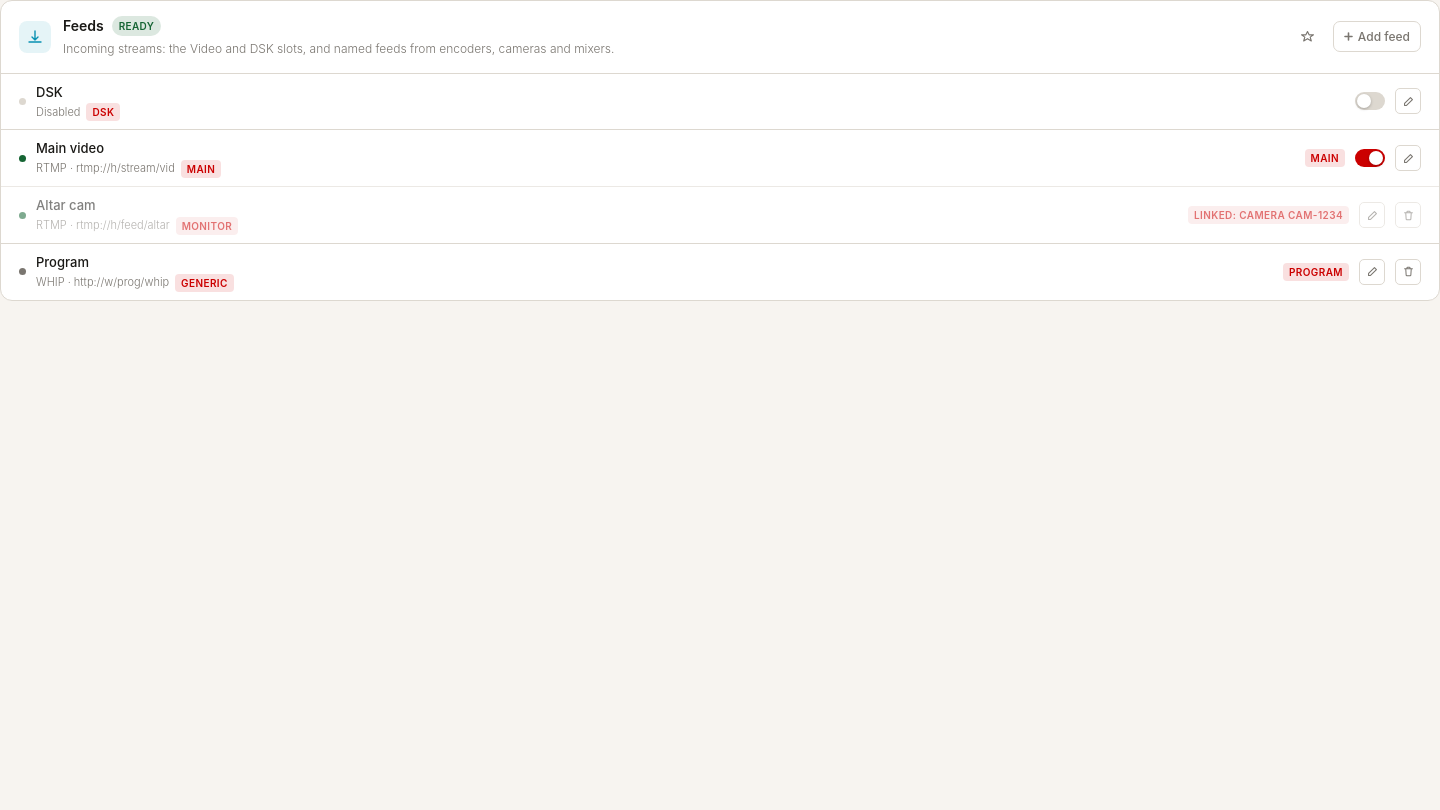
it: FeedsSection › shows the server reason for a 400
This screenshot has width=1440, height=810.
Expected: the text "Altar cam" is shown, left=36, top=197, right=96, bottom=213
Click the button "Add feed".
click(1377, 37)  # box left=1333, top=21, right=1421, bottom=52
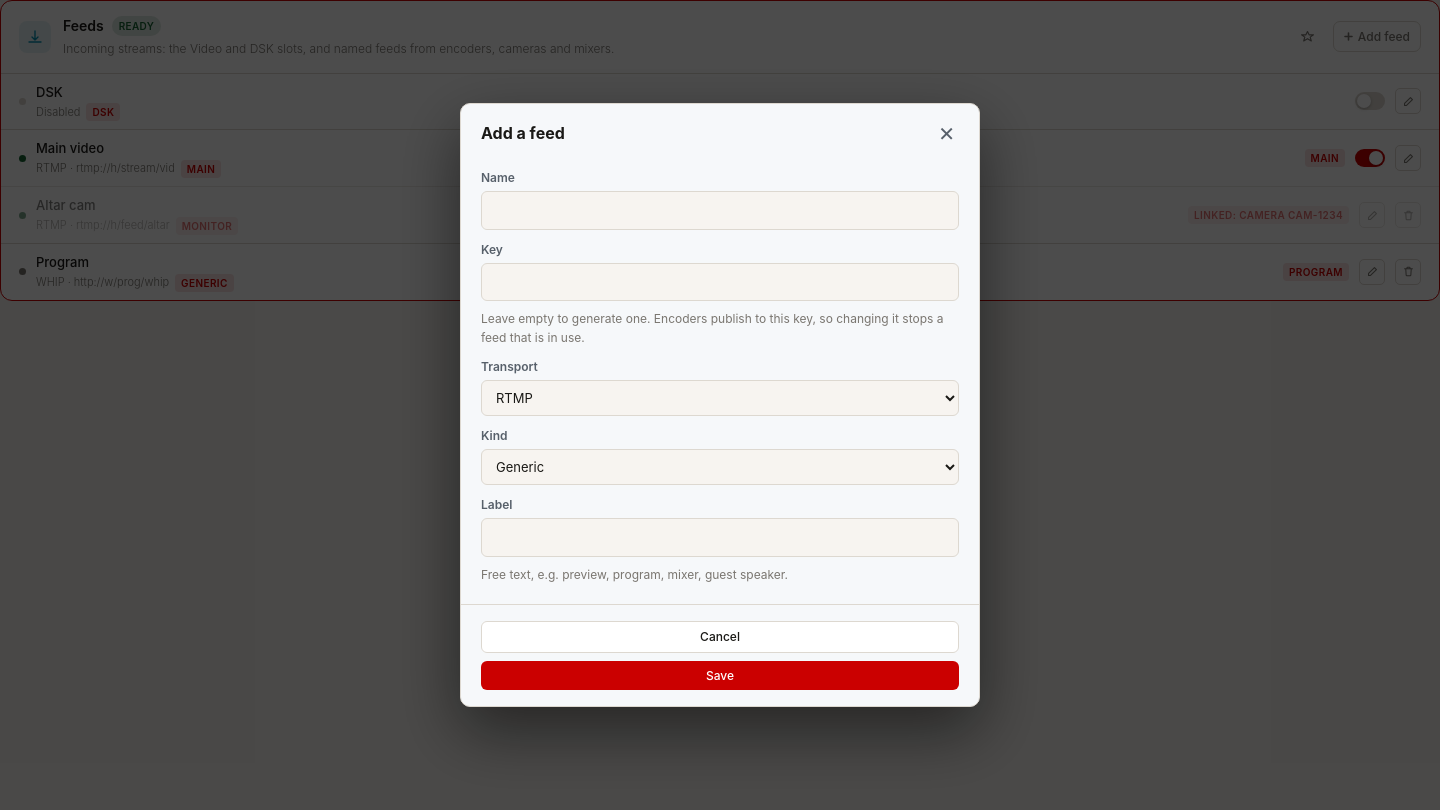
Type "Bad" into the field labelled "Name".
click(720, 211); type("Bad")  # box left=481, top=191, right=959, bottom=230
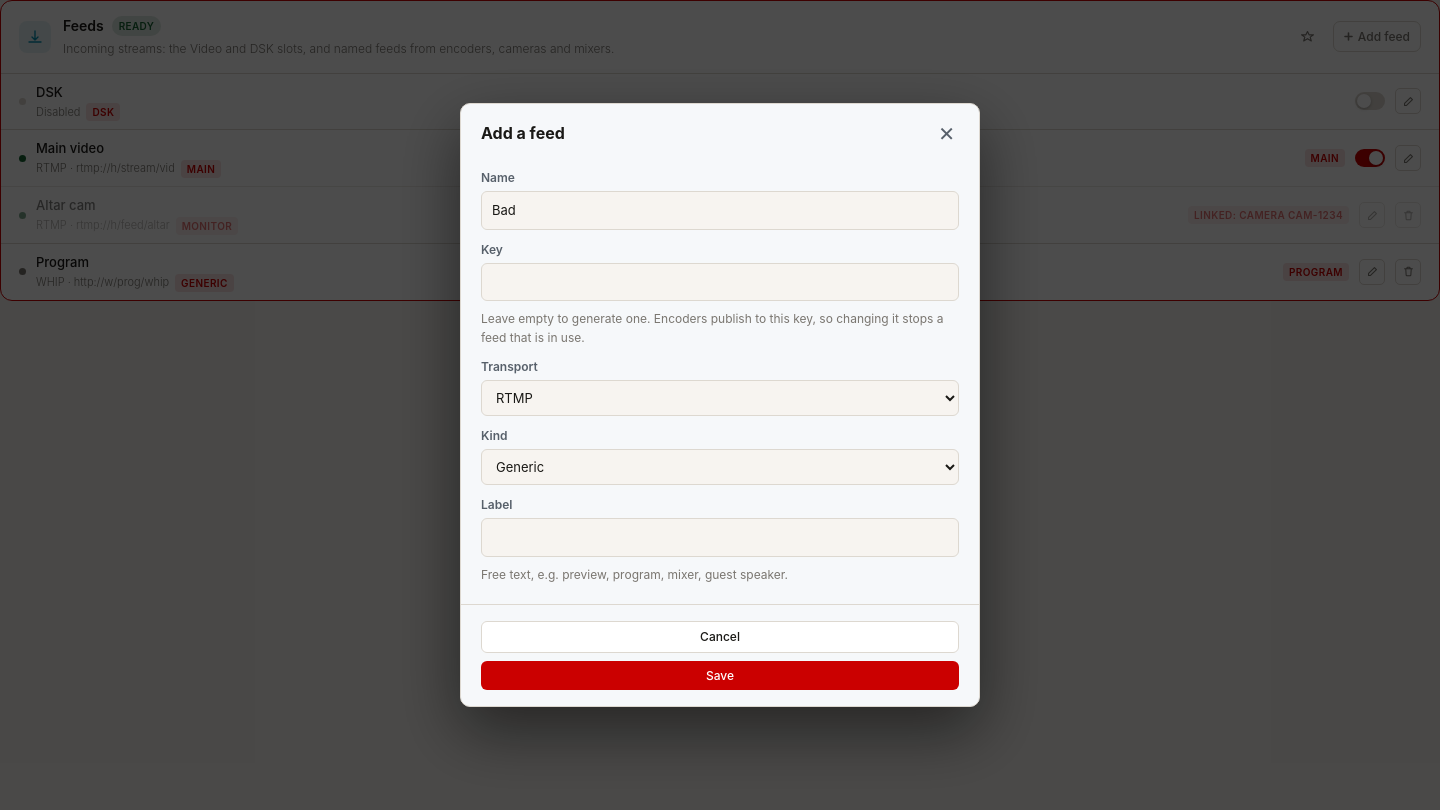
Type "a b" into the field labelled "Key".
click(720, 282); type("a b")  # box left=481, top=263, right=959, bottom=300
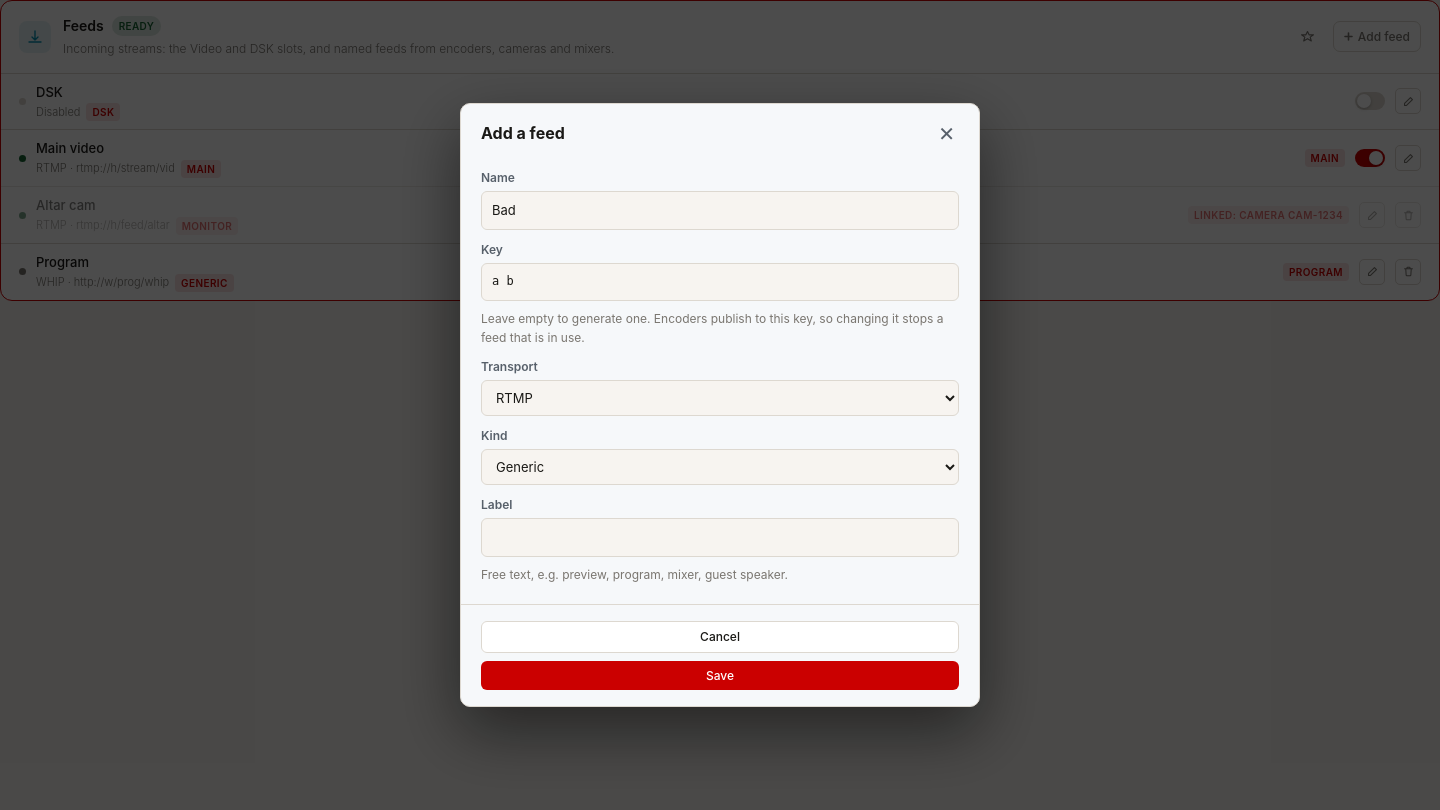
Click the button "Save".
click(720, 675)  # box left=481, top=661, right=959, bottom=690
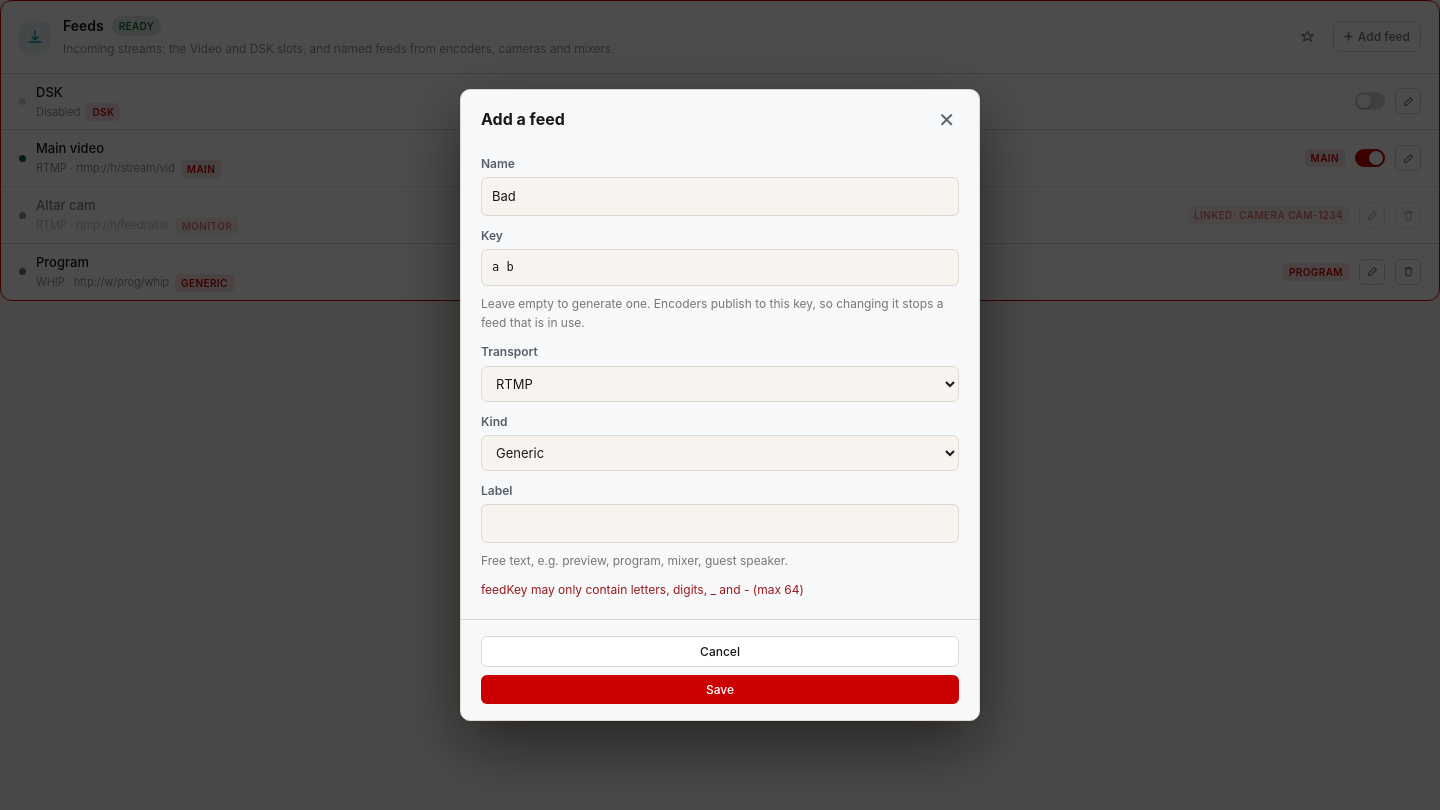
Expected: the text "feedKey may only contain letters, digits, _ and - (max 64)" is shown, left=481, top=582, right=804, bottom=597
